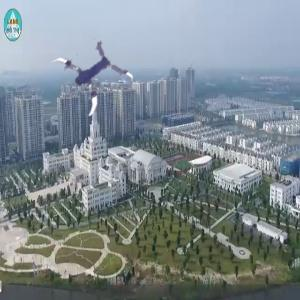drone: (50, 39, 128, 117)
